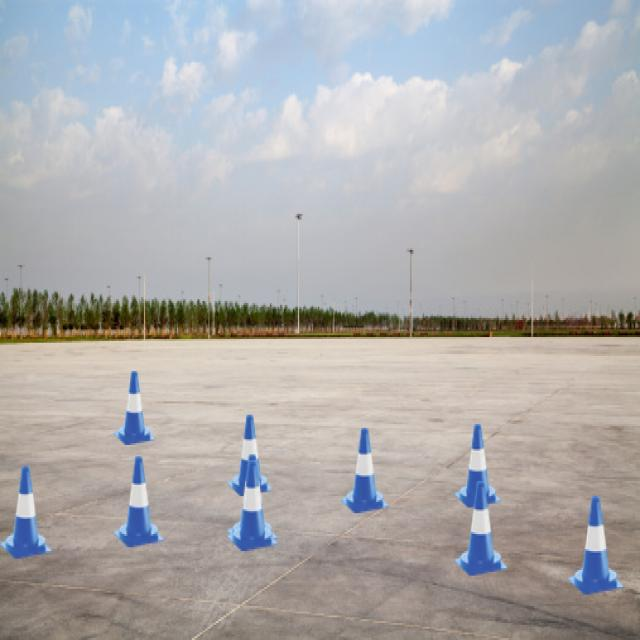blue_cone: (568, 496, 624, 595), (454, 481, 508, 576), (0, 466, 52, 558), (227, 454, 278, 546), (227, 460, 278, 551), (114, 457, 164, 548), (341, 428, 389, 513), (455, 424, 501, 508), (227, 415, 273, 496), (114, 371, 155, 445)
